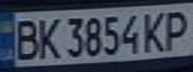3: (63, 15, 84, 58)
4: (121, 11, 145, 55)
5: (103, 12, 124, 56)
8: (81, 14, 106, 57)
B: (9, 16, 42, 61)
K: (139, 8, 172, 54), (33, 14, 63, 61)
P: (160, 7, 193, 51)
